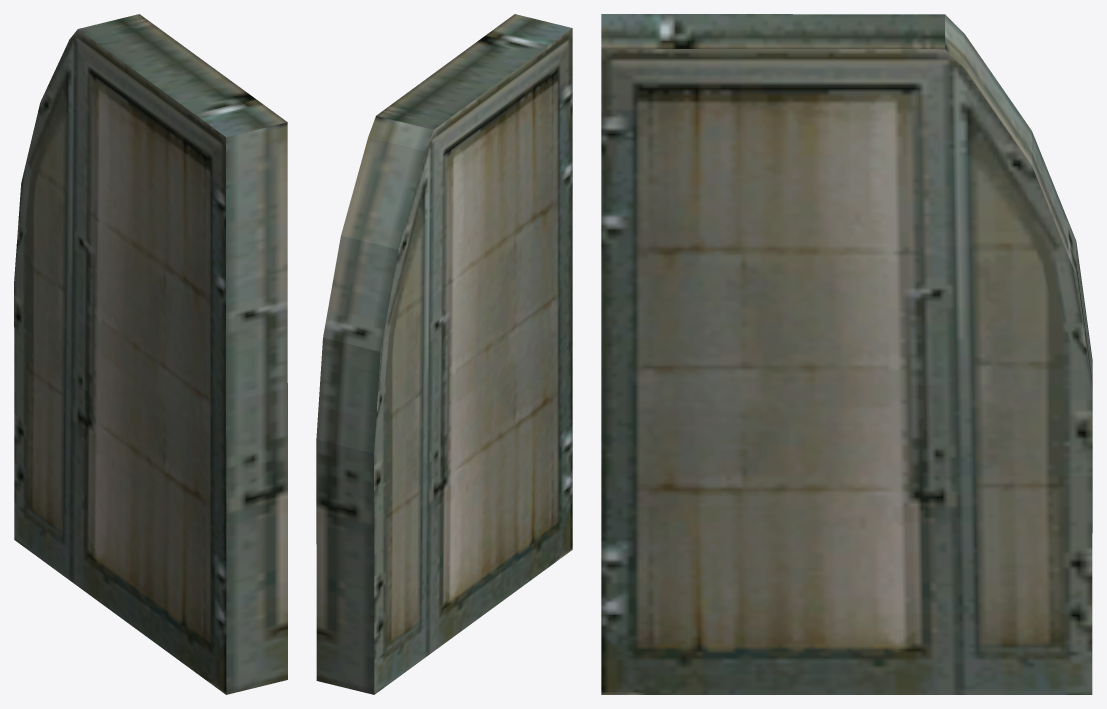
The model's file is METALDOORB_2.glb.
The picture shows the model from 3 angles, left to right: view 1: azimuth 30°, elevation 25°; view 2: azimuth 150°, elevation 25°; view 3: azimuth 270°, elevation 25°; orthographic projection. The views are drawn at different scales.
Parts seen in each view (by area): view 1: METALDOORB_2; view 2: METALDOORB_2; view 3: METALDOORB_2.
Boxes of the visible parts, <box> form: METALDOORB_2: <box>14,14,287,694</box>; METALDOORB_2: <box>316,14,572,694</box>; METALDOORB_2: <box>601,14,1092,694</box>.
Bounding box in the file's own units: 0.5 × 4.32 × 2.98.
Materials: 1 (1 with a texture image).
